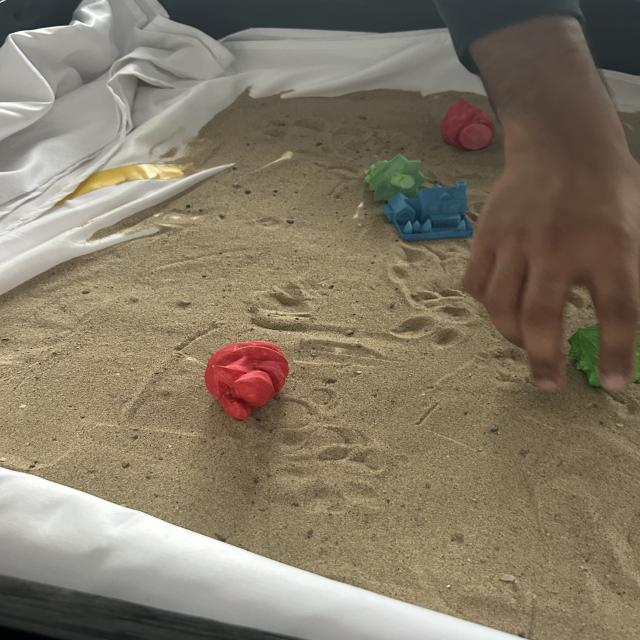fire: (202, 338, 291, 421), (436, 95, 497, 154)
house: (379, 180, 476, 242)
tree: (360, 152, 425, 200), (569, 321, 603, 388)
